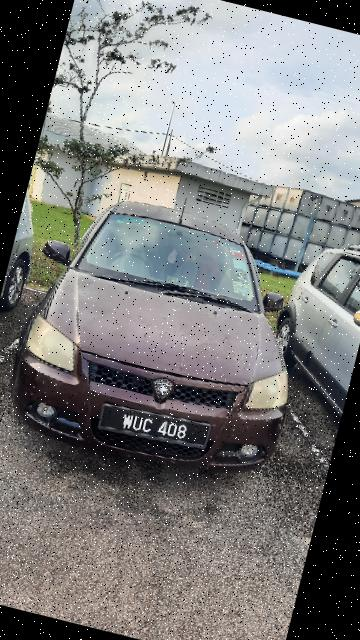License_Plate: (95, 392, 217, 464)
car: (1, 176, 329, 497), (249, 221, 360, 443)
